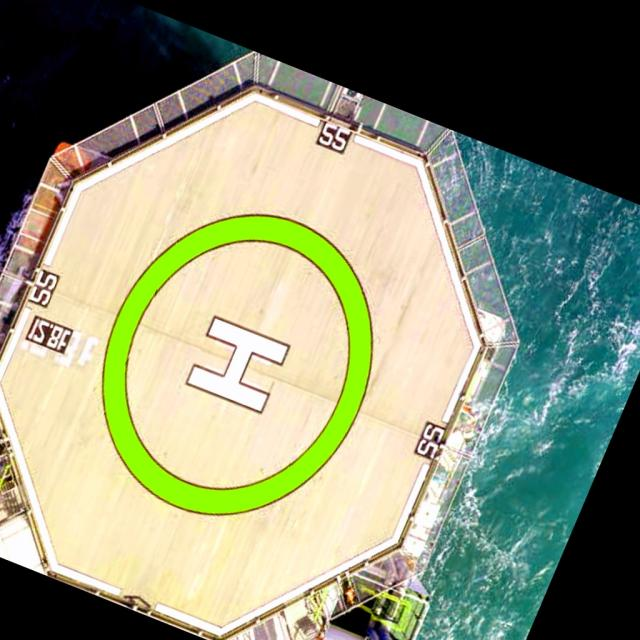helipad: (94, 206, 378, 519)
